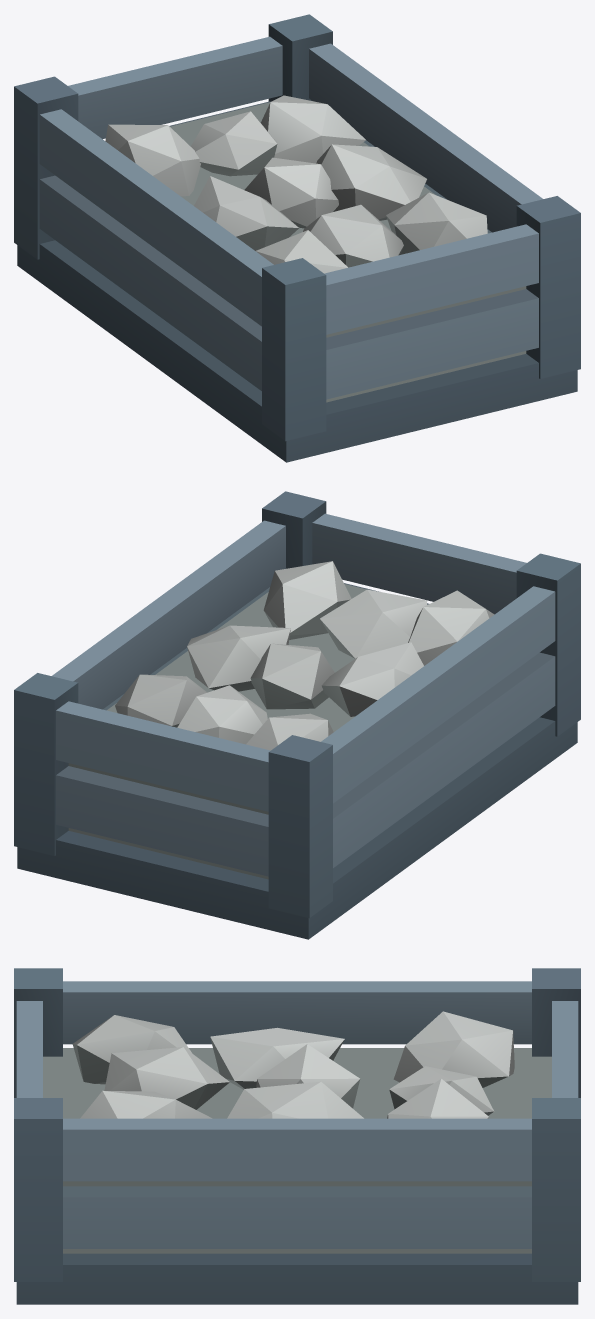
File: fishcrate.lod1.glb
3 renders of one model, top to bottom at view 1: azimuth 30°, elevation 25°; view 2: azimuth 150°, elevation 25°; view 3: azimuth 270°, elevation 25°, orthographic. The views are drawn at different scales.
Bounding box in the file's own units: 0.406 × 0.235 × 0.646.
